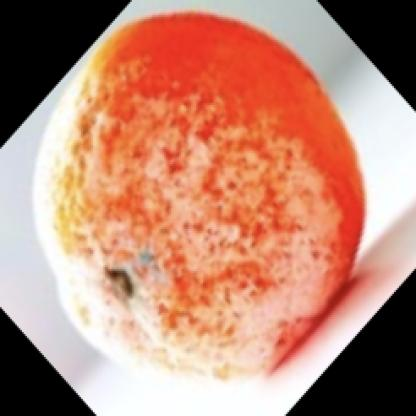rotten: (31, 15, 368, 384)
